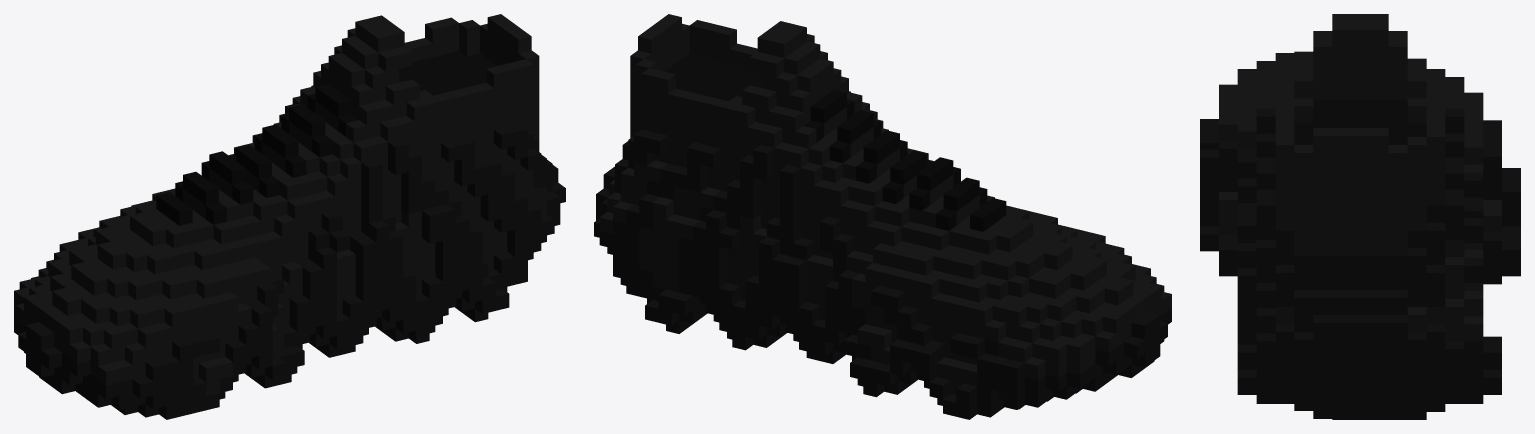
The model's file is Burnt Ash.fbx.
The picture shows the model from 3 angles, left to right: view 1: azimuth 30°, elevation 25°; view 2: azimuth 150°, elevation 25°; view 3: azimuth 270°, elevation 25°; orthographic projection. The views are drawn at different scales.
Parts seen in each view (by area): view 1: Untitled; view 2: Untitled; view 3: Untitled.
Part boxes in pixels (x1,y1,x2,y2): Untitled: [14, 14, 565, 419]; Untitled: [594, 14, 1171, 419]; Untitled: [1200, 14, 1520, 419].
Bounding box in the file's own units: 390 × 200 × 170.
